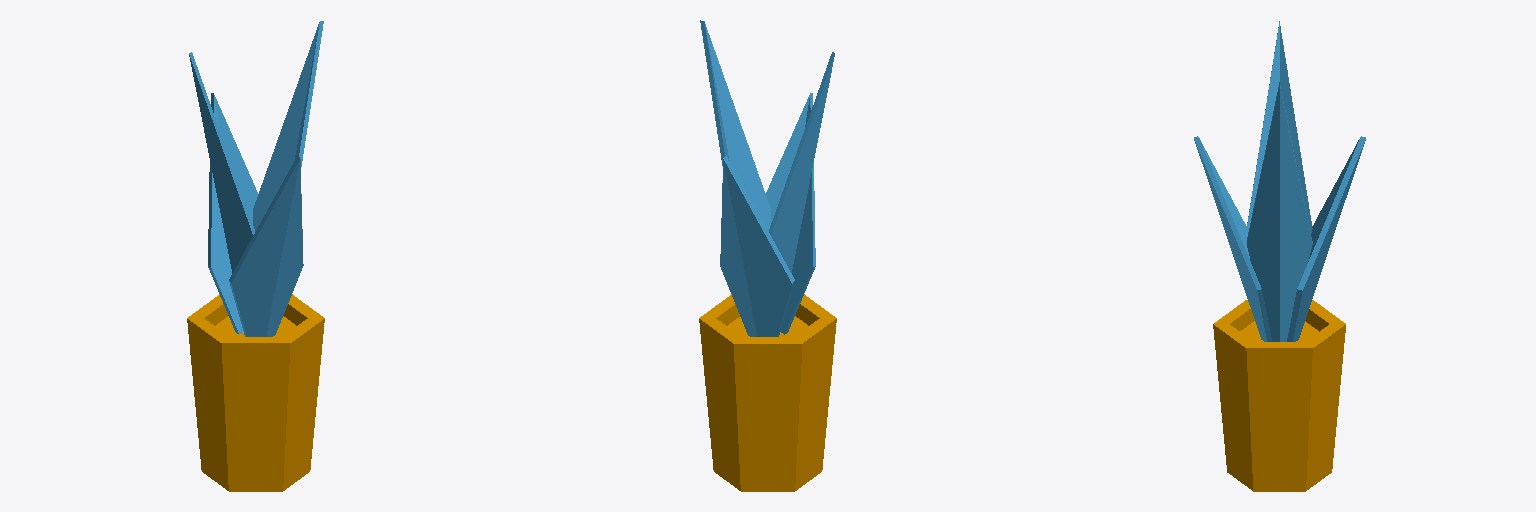
The robot description file, URDF, robot "pottedPlant":
<?xml version="1.0"?>
<robot name="pottedPlant">
  <link name="pot">
    <inertial>
        <origin rpy="0 0 0" xyz="0 0 0"/>
        <mass value="0.00"/>
        <inertia ixx="4.4e-5" ixy="0" ixz="0" iyy="0" iyz="0" izz="4.4e-5"/>
    </inertial>
    <visual>
      <geometry>
        <mesh filename="pottedPlantPot.obj"/>
      </geometry>
    </visual>
    <collision>
      <geometry>
        <mesh filename="pottedPlantPotCollider.obj"/>
      </geometry>
      <surface>
           <bounce restitution_coefficient = "0.1"/>
      </surface>
    </collision>
  </link>
  <link name="plant">
    <inertial>
        <origin rpy="0 0 0" xyz="0 0 0"/>
        <mass value="0.000"/>
        <inertia ixx="1.9e-5" ixy="0" ixz="0" iyy="6.8e-6" iyz="0" izz="1.2e-5"/>
    </inertial>
    <visual>
      <geometry>
        <mesh filename="pottedPlantPlant.obj"/>
      </geometry>
    </visual>
    <collision>
      <geometry>
        <mesh filename="pottedPlantPlantCollider.obj"/>
      </geometry>
      <surface>
           <bounce restitution_coefficient = "0.1"/>
      </surface>
    </collision>
  </link>
  <joint name="pot_to_plant" type="fixed">
    <parent link="pot"/>
    <child link="plant"/>
    <origin rpy="0 0 0" xyz="0 0 1.33481"/>
  </joint>
</robot>

--- What the picture shows (computed from the rendered views, not written in the file) ---
3 views of the same robot in one strip: view 1: azimuth 30°, elevation 25°; view 2: azimuth 150°, elevation 25°; view 3: azimuth 270°, elevation 25° (orthographic).
Model pottedPlant with 2 links and 1 joints (1 fixed), rooted at pot, posed all joints at 0.
Visible links, largest first — view 1: pot, plant; view 2: pot, plant; view 3: pot, plant.
Link boxes in pixels (left/top/right/bottom): pot: left=187, top=294, right=324, bottom=491; plant: left=189, top=21, right=323, bottom=336; pot: left=699, top=294, right=836, bottom=491; plant: left=700, top=20, right=834, bottom=336; pot: left=1213, top=300, right=1345, bottom=491; plant: left=1194, top=21, right=1365, bottom=341.
Size in the robot's own frame: 0.759 by 0.8704 by 2.33 metres.
2 mesh visuals loaded from 2 distinct referenced files (2 OBJ).
